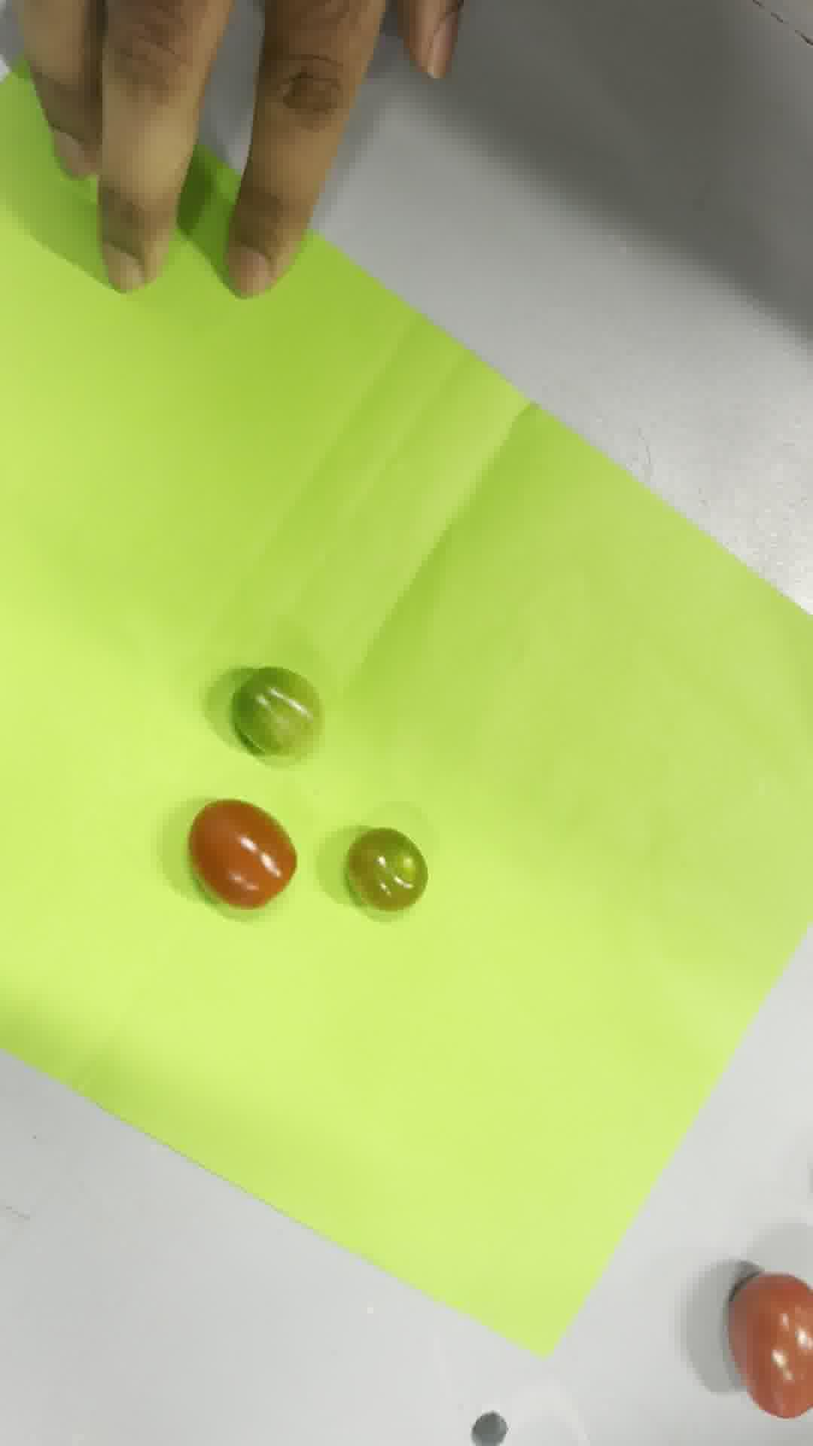green_cherry_tomato: (232, 665, 323, 759)
red_cherry_tomato: (189, 800, 297, 909)
yellow_cherry_tomato: (346, 827, 428, 913)
